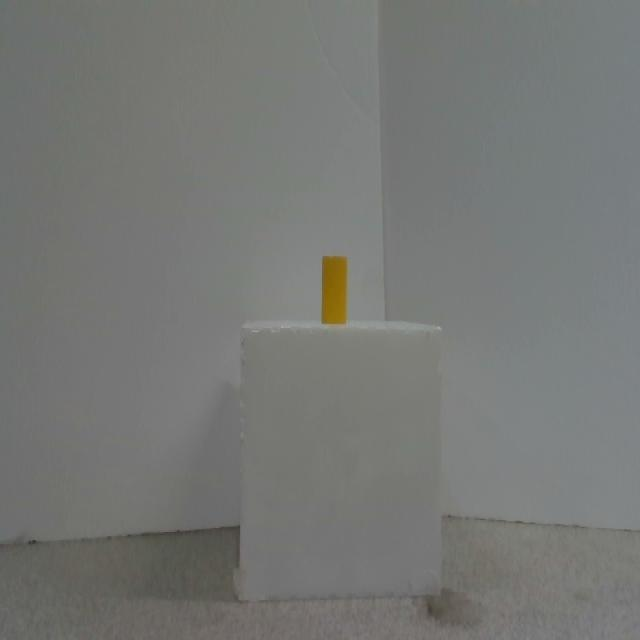yellow_cylinder: (322, 255, 348, 326)
